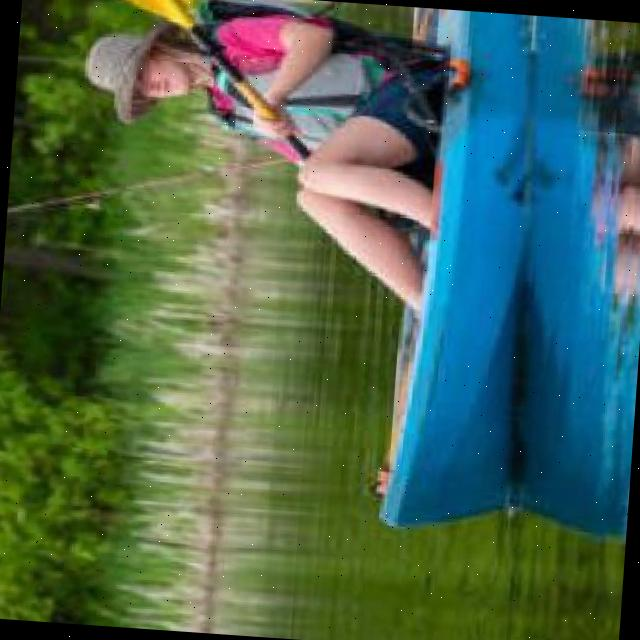kayak: (377, 6, 529, 525), (455, 413, 470, 434)
